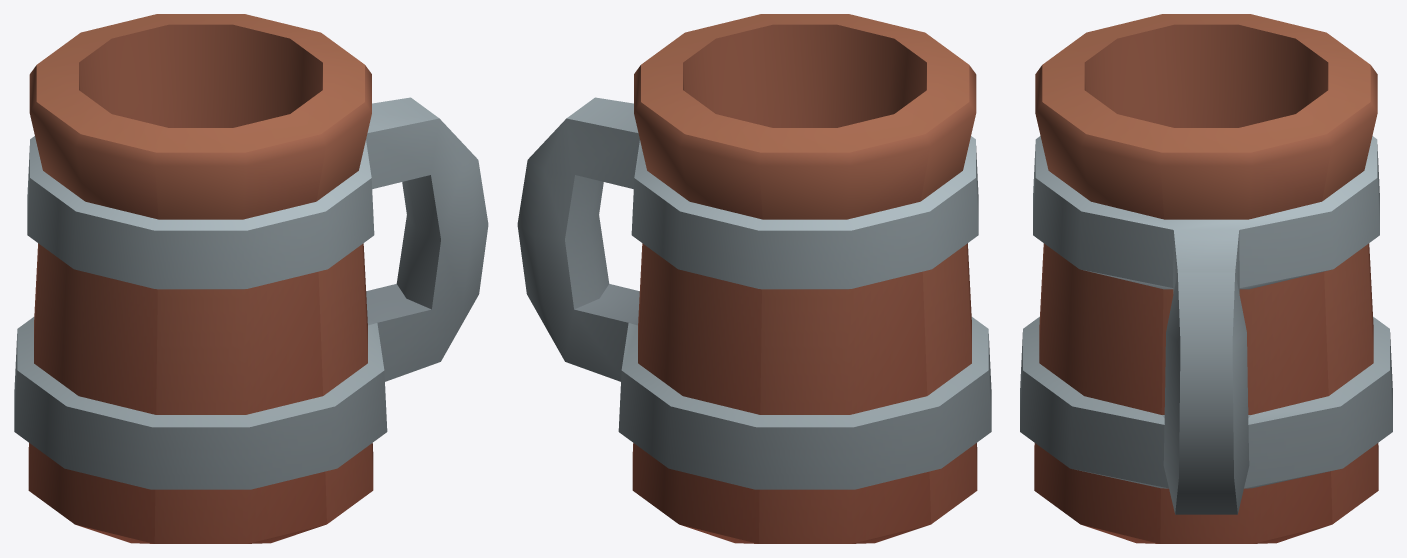
The picture shows the model from 3 angles, left to right: view 1: azimuth 30°, elevation 25°; view 2: azimuth 150°, elevation 25°; view 3: azimuth 270°, elevation 25°; orthographic projection.
Parts seen in each view (by area): view 1: mug_empty; view 2: mug_empty; view 3: mug_empty.
Boxes of the visible parts, x1,y1,x2,y2 form: mug_empty: (14,14,488,543); mug_empty: (517,14,991,543); mug_empty: (1020,14,1392,543).
Bounding box in the file's own units: 0.5342 × 0.4867 × 0.396.
1 material, 1 textured.
